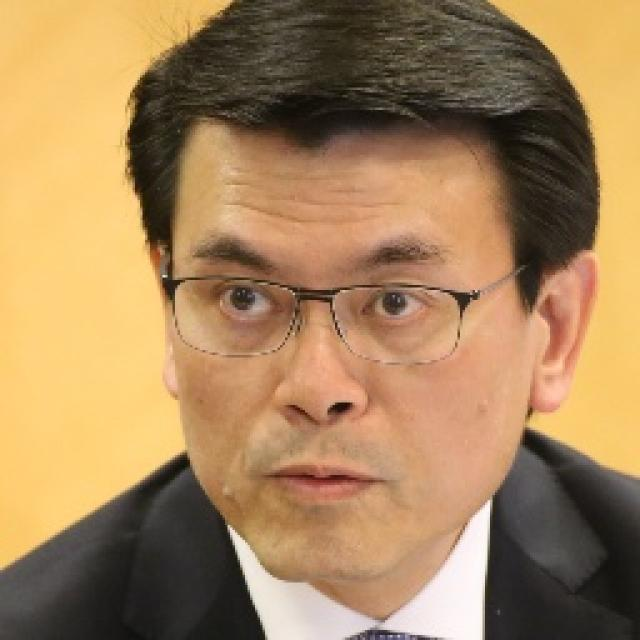earlobe: (530, 249, 601, 413), (144, 240, 180, 400)
